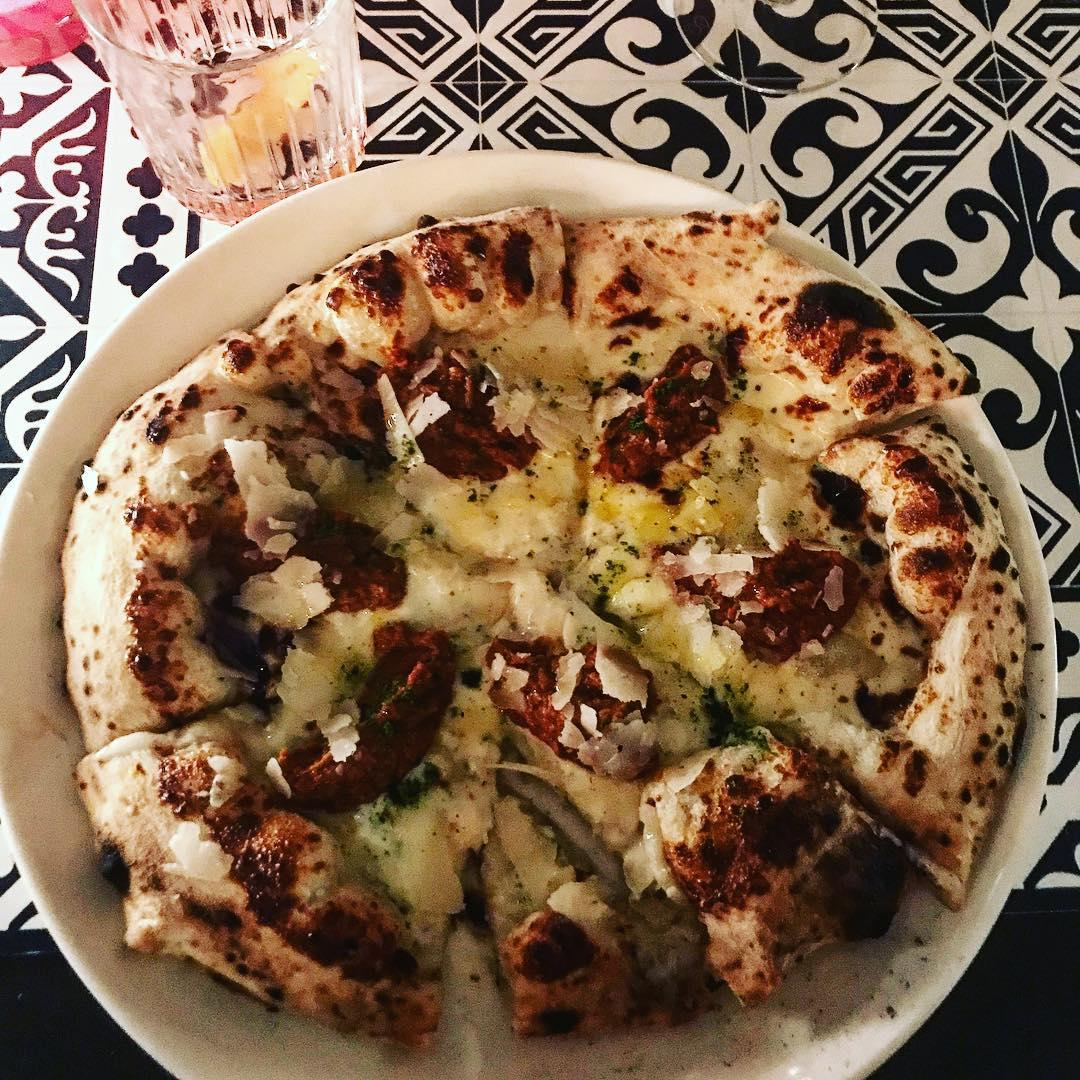Pizza: (56, 208, 1029, 1058)
